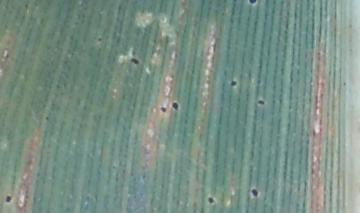tarspot: (250, 187, 259, 198), (129, 57, 141, 65), (171, 101, 179, 112), (228, 79, 238, 87), (207, 195, 215, 205), (5, 194, 13, 204), (159, 105, 167, 114), (257, 98, 265, 106), (247, 1, 258, 6), (44, 114, 50, 121), (341, 81, 347, 87), (96, 37, 103, 42)
